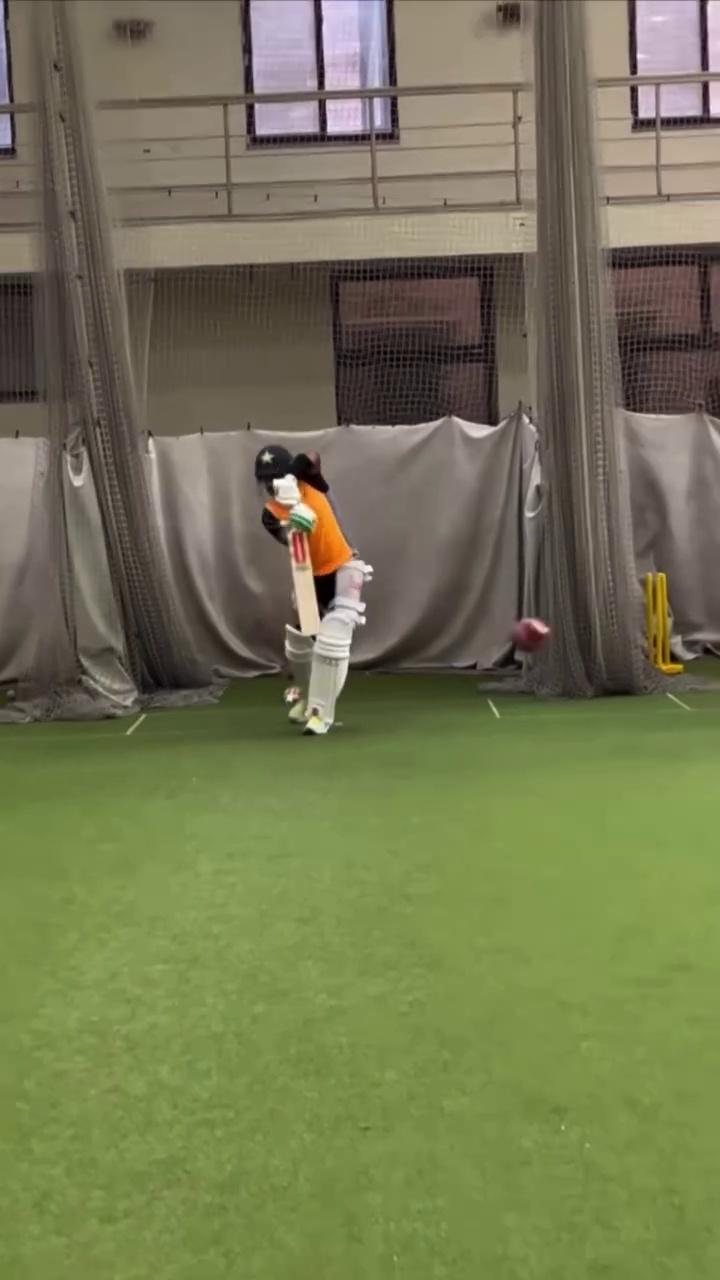bat: (287, 531, 321, 637)
